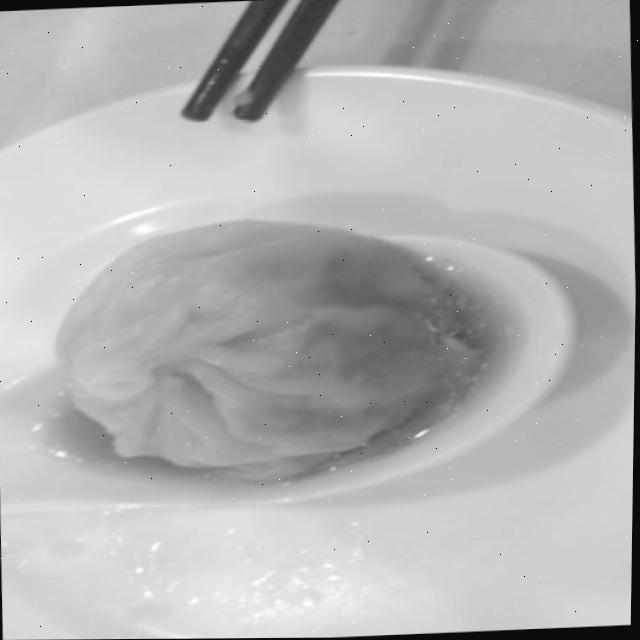带馅早点: (27, 163, 535, 542)
